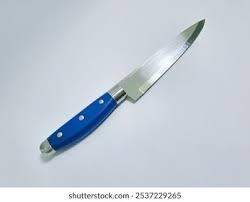Knife: (39, 17, 205, 154)
